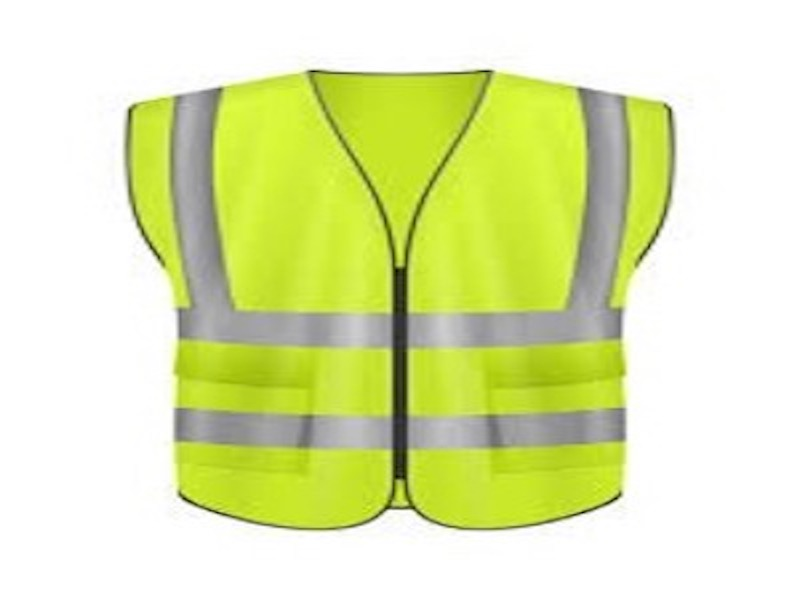vest: (134, 71, 683, 514)
